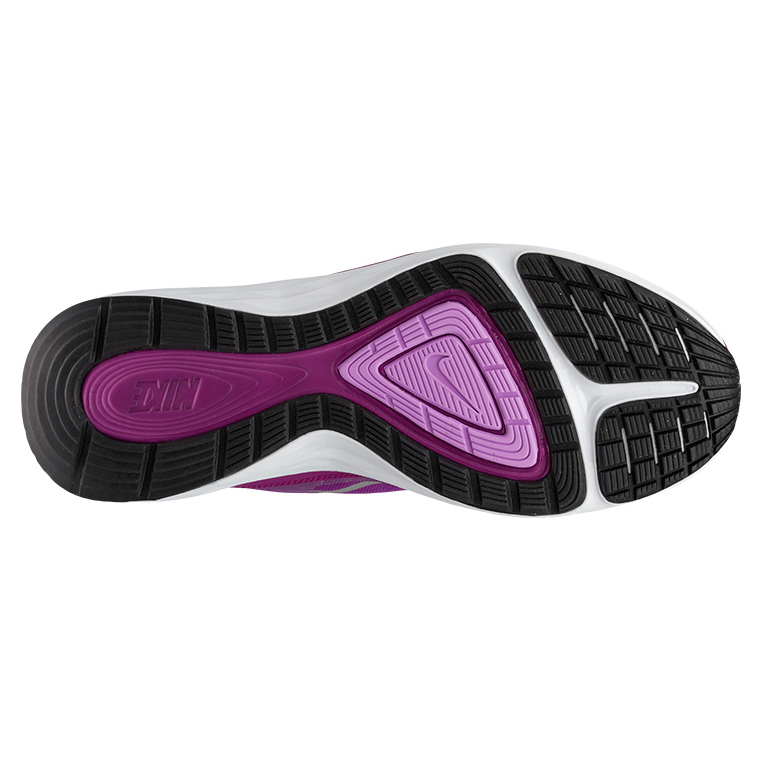Nike: (420, 349, 489, 417)
